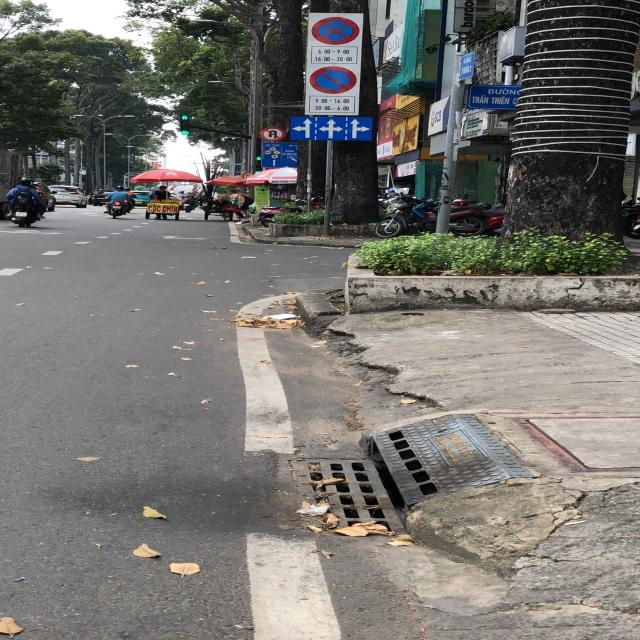Bien bao cam do xe: (308, 63, 356, 96)
Bien bao cam dung xe va do xe: (309, 14, 363, 46)
Bien bao cam quay dau xe: (256, 124, 288, 143)
